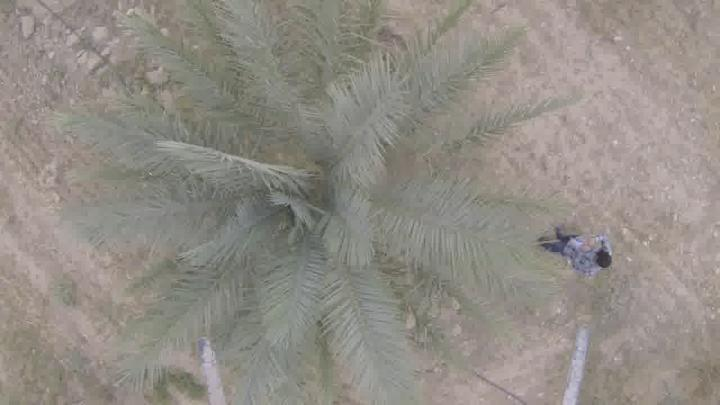Date-Palm-Crown: (158, 58, 486, 328)
